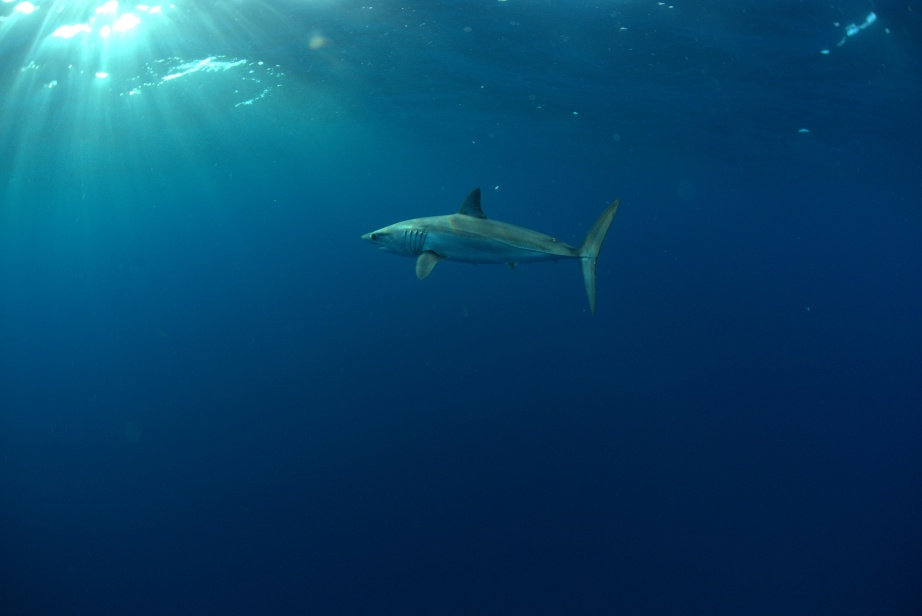Mako: (321, 185, 633, 321)
